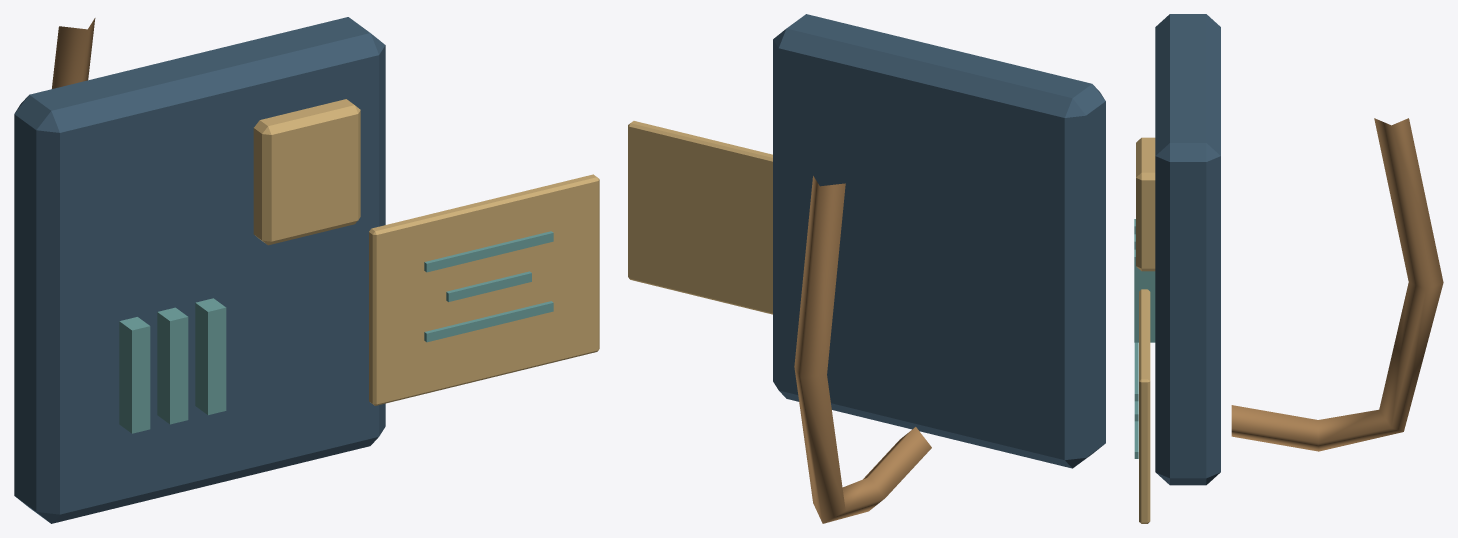
Rendered from micro_receptionist.glb.
3 views of the same model, side by side, from view 1: azimuth 30°, elevation 25°; view 2: azimuth 150°, elevation 25°; view 3: azimuth 270°, elevation 25° (orthographic). The views are drawn at different scales.
Parts seen in each view (by area): view 1: micro_receptionist; view 2: micro_receptionist; view 3: micro_receptionist.
Boxes of the visible parts, x1=… form: micro_receptionist: x1=14, y1=17, x2=599, y2=523; micro_receptionist: x1=628, y1=14, x2=1105, y2=523; micro_receptionist: x1=1134, y1=14, x2=1443, y2=523.
Size of the model in its own units: 0.3598 by 0.2834 by 0.2128.
